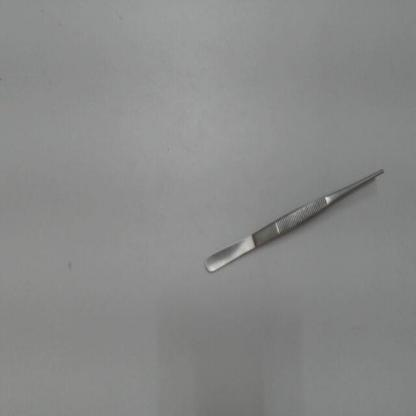Gillies Toothed Dissector: (191, 156, 393, 283)
